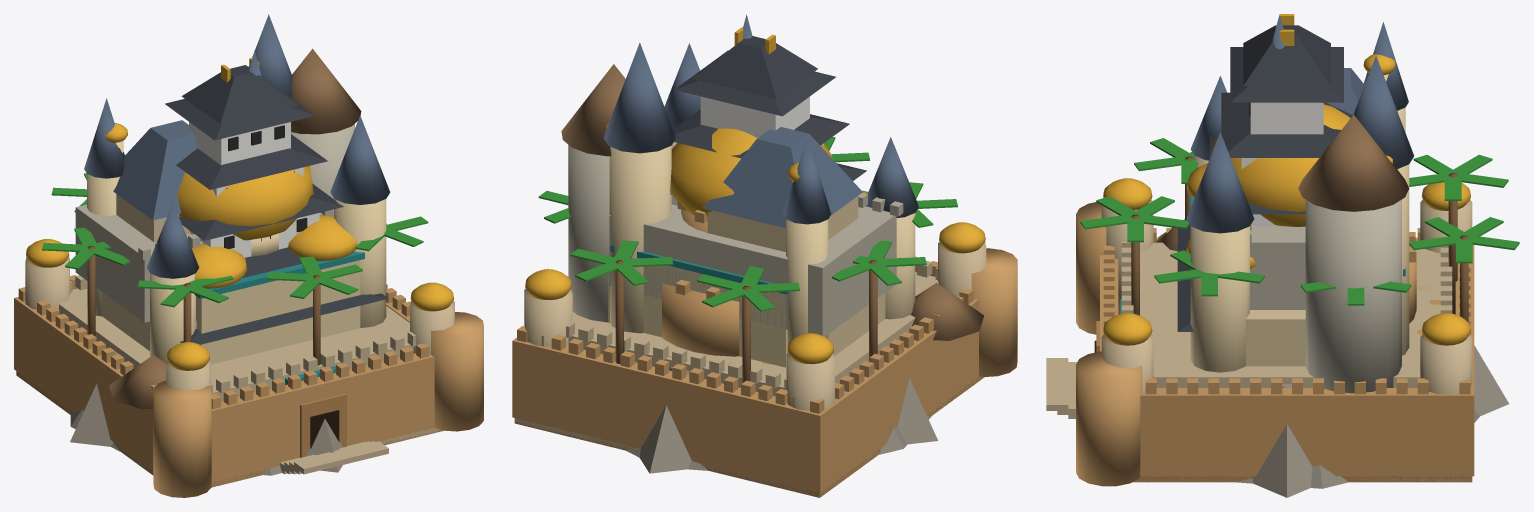
Rendered from castles.glb.
The picture shows the model from 3 angles, left to right: view 1: azimuth 30°, elevation 25°; view 2: azimuth 150°, elevation 25°; view 3: azimuth 270°, elevation 25°; orthographic projection. The views are drawn at different scales.
Visible parts, largest first — view 1: cFort, cPalace, cSpires, cHimeji, cTropic; view 2: cFort, cTropic, cSpires, cPalace, cHimeji; view 3: cFort, cTropic, cPalace, cSpires, cHimeji.
Part boxes in pixels (x1,y1,x2,y2): cFort: (14, 275, 483, 497); cPalace: (16, 123, 454, 486); cSpires: (84, 14, 390, 363); cHimeji: (70, 57, 388, 472); cTropic: (42, 48, 428, 475); cFort: (512, 200, 1017, 497); cTropic: (538, 64, 984, 470); cSpires: (604, 14, 918, 355); cPalace: (514, 123, 986, 497); cHimeji: (639, 27, 938, 473); cFort: (1076, 202, 1474, 486); cTropic: (1080, 115, 1519, 488); cPalace: (1046, 54, 1472, 482); cSpires: (1186, 14, 1413, 372); cHimeji: (1177, 14, 1508, 497).
Size of the model in its own units: 12 by 11.8 by 12.78.
